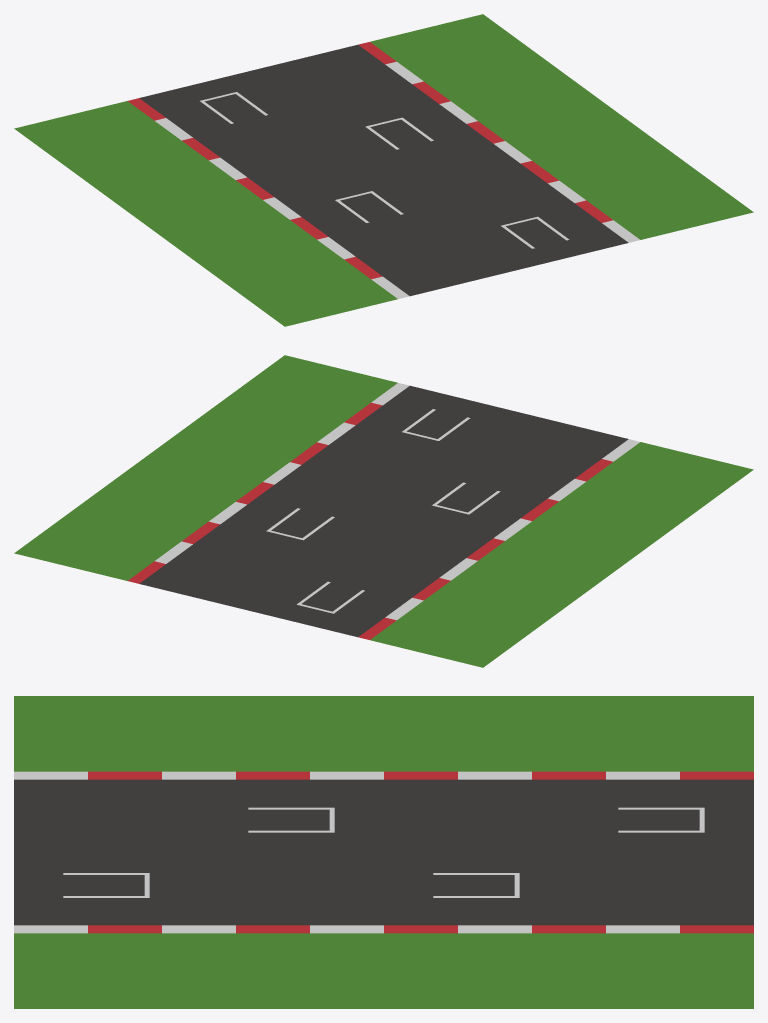
Rendered from tiles-nb_tile-race-track-start-grid-nb.fbx.
3 views of the same model, one above another, from view 1: azimuth 30°, elevation 25°; view 2: azimuth 150°, elevation 25°; view 3: azimuth 270°, elevation 25° (orthographic). The views are drawn at different scales.
Visible parts, largest first — view 1: tiles_nb_tile_race_track_start_grid_nb; view 2: tiles_nb_tile_race_track_start_grid_nb; view 3: tiles_nb_tile_race_track_start_grid_nb.
Part boxes in pixels (x1,y1,x2,y2): tiles_nb_tile_race_track_start_grid_nb: (14, 14, 753, 326); tiles_nb_tile_race_track_start_grid_nb: (14, 355, 753, 667); tiles_nb_tile_race_track_start_grid_nb: (14, 696, 753, 1008).
Size of the model in its own units: 200 by 0 by 200.
